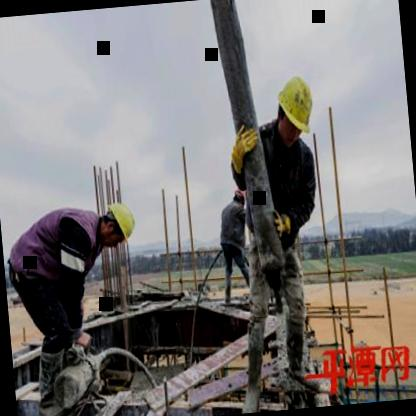helmet: (269, 64, 322, 154), (95, 198, 141, 249), (228, 184, 249, 214)
